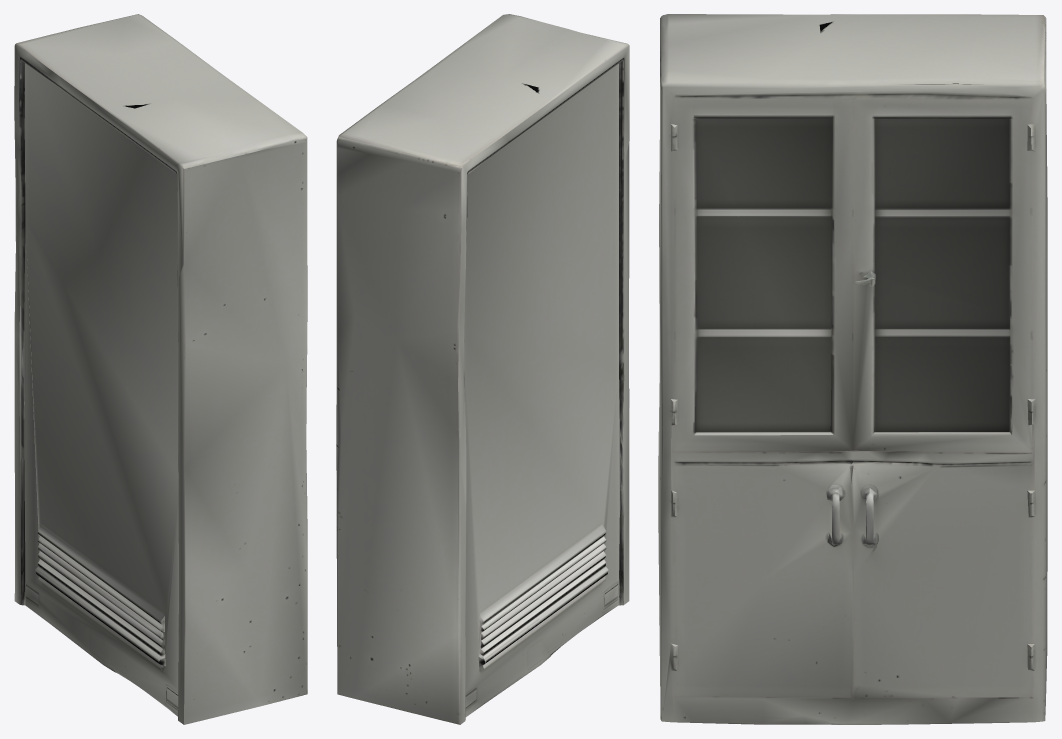
3 views of the same model, side by side, from view 1: azimuth 30°, elevation 25°; view 2: azimuth 150°, elevation 25°; view 3: azimuth 270°, elevation 25° (orthographic). The views are drawn at different scales.
Parts seen in each view (by area): view 1: repaired; view 2: repaired; view 3: repaired.
Part boxes in pixels (x1,y1,x2,y2): repaired: [14, 14, 307, 724]; repaired: [336, 14, 629, 724]; repaired: [658, 14, 1047, 724].
Size of the model in its own units: 0.2584 by 0.9987 by 0.5475.
